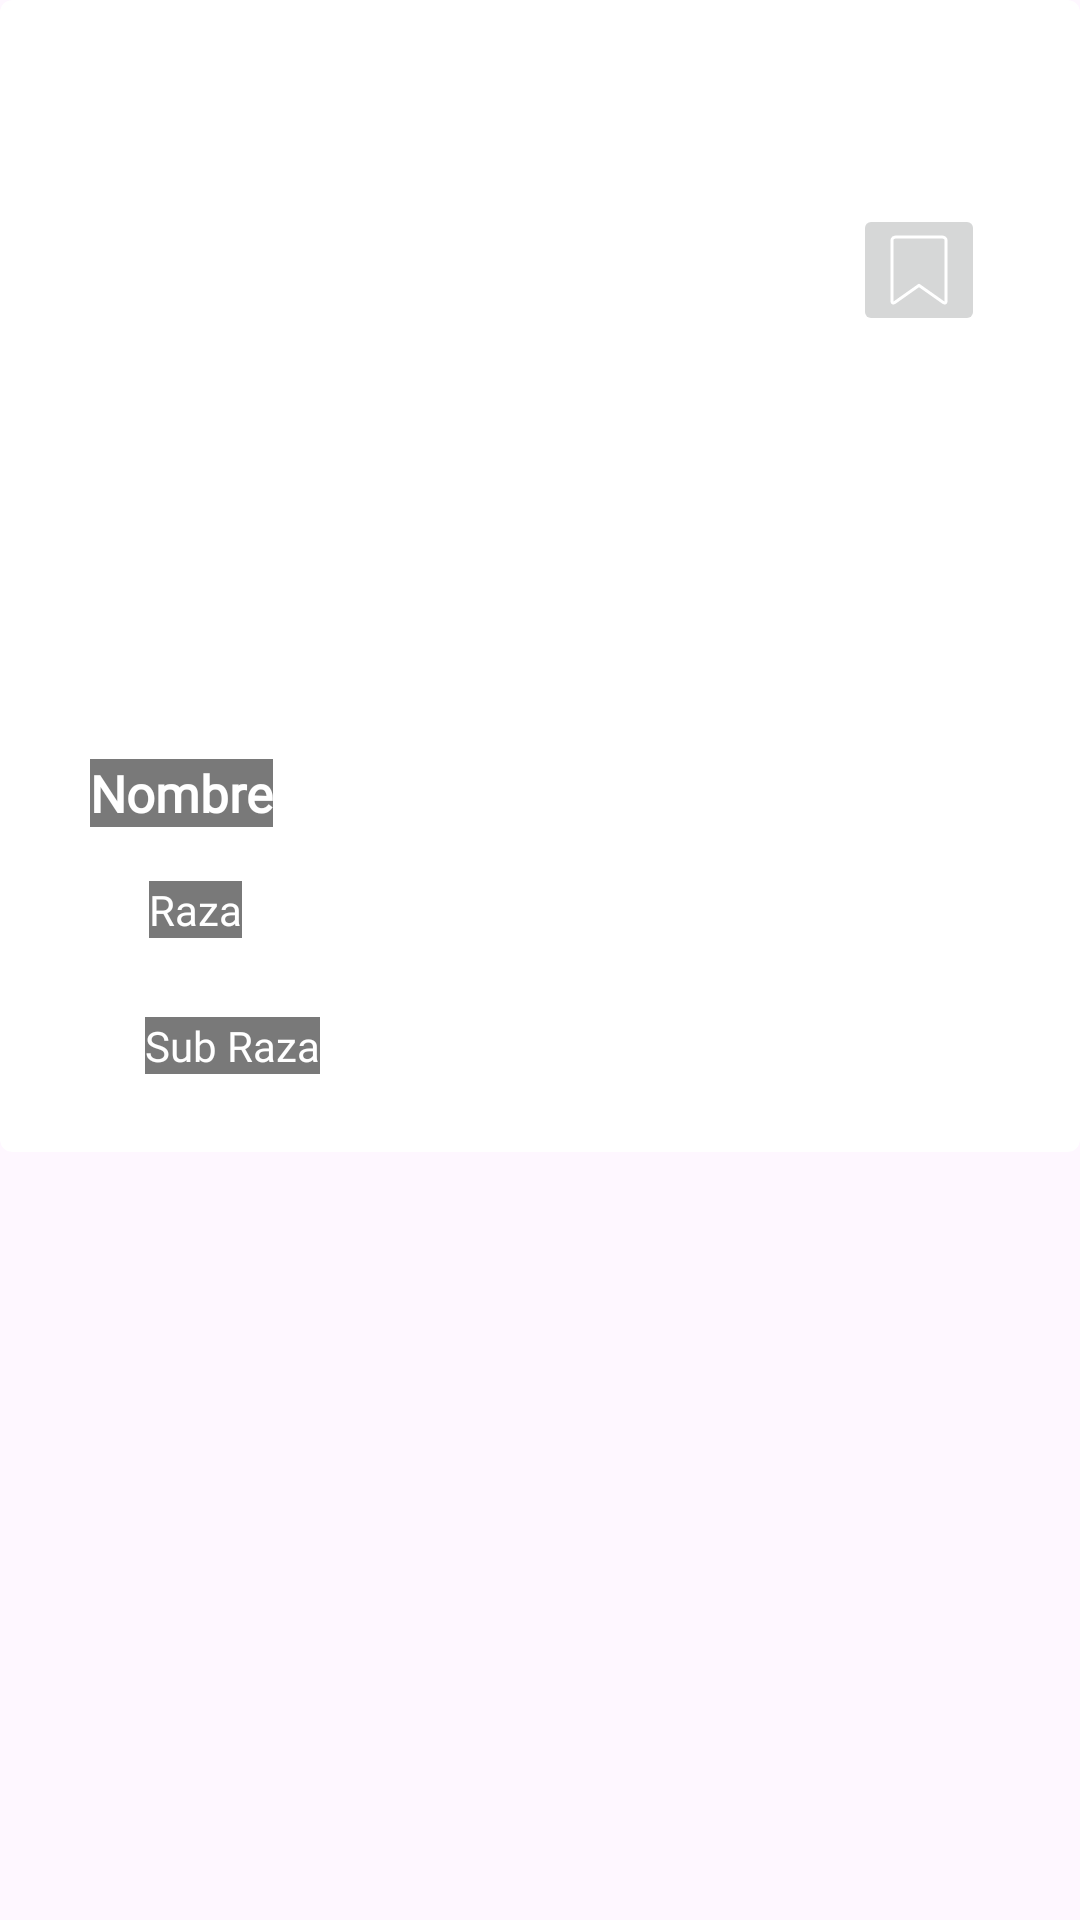

Icons on this 1080×1920 Android screen, each with its box as (x1, y1, x2, y2):
no saved: (865, 222, 973, 318)
